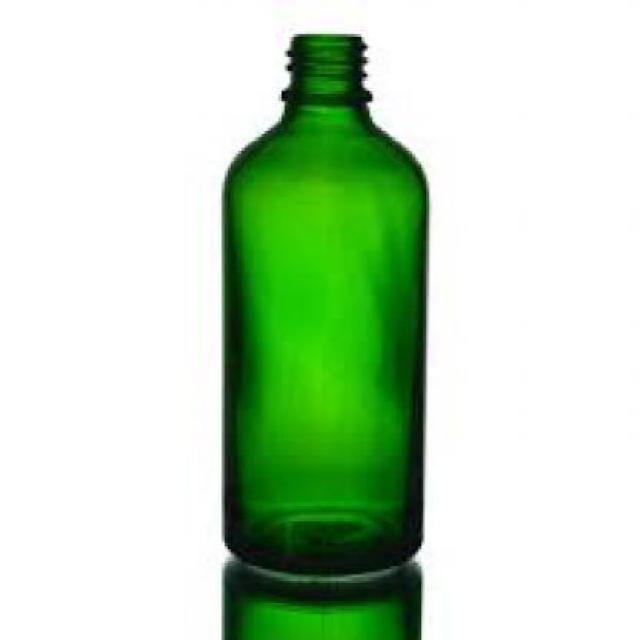GLASS: (225, 32, 432, 574)
